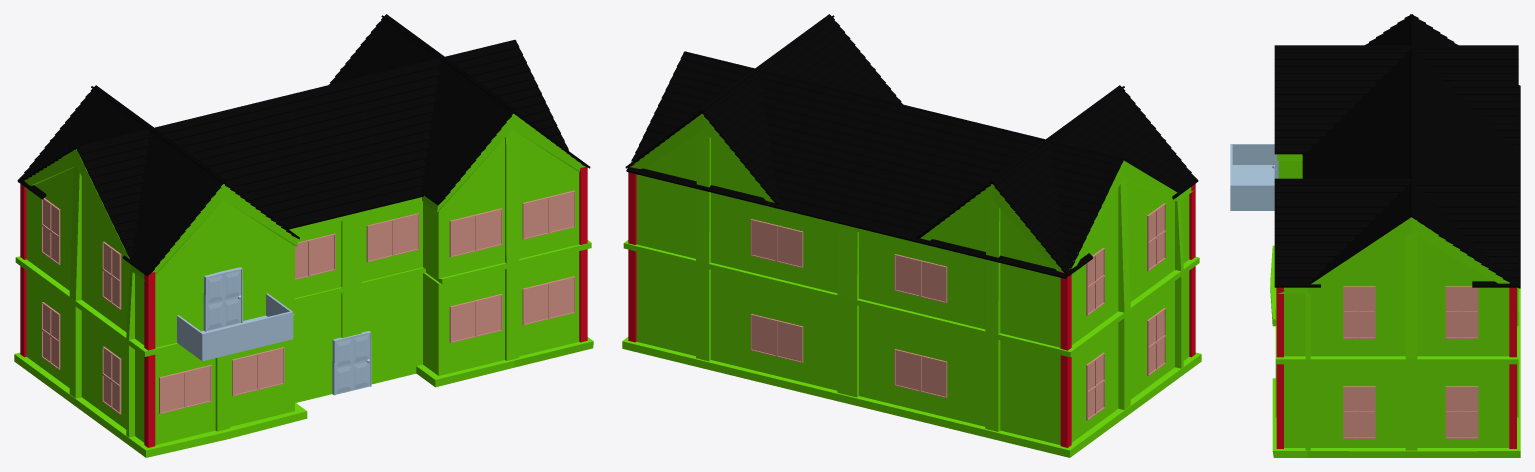
File: Building#4_Variation_1.fbx
3 renders of one model, left to right at view 1: azimuth 30°, elevation 25°; view 2: azimuth 150°, elevation 25°; view 3: azimuth 270°, elevation 25°, orthographic. The views are drawn at different scales.
Parts seen in each view (by area): view 1: Cube, Cube.007, Cube.004, Cube.006, Door.001, Cube.002, Door, Window_Rectangle.005, Window_Rectangle.002, Window_Rectangle.006, Window_Rectangle.001, Window_Rectangle.012 (+10 smaller); view 2: Cube, Cube.008, Cube.004, Cube.006, Cube.002, Window_Rectangle.007, Window_Rectangle.010, Window_Rectangle.008, Window_Rectangle.009, Cube.007, Window_Square.007, Window_Square.004 (+4 smaller); view 3: Cube, Cube.003, Cube.005, Cube.008, Cube.007, Door.001, Cube.002, Window_Square.002, Window_Square.001, Window_Square.005, Window_Square.006, Cube.006 (+1 smaller).
Part boxes in pixels (box(x1,y1,x2,y2)): Cube: box(14, 113, 593, 457); Cube.007: box(75, 39, 568, 259); Cube.004: box(17, 85, 226, 276); Cube.006: box(329, 14, 516, 205); Door.001: box(177, 267, 293, 361); Cube.002: box(20, 166, 587, 447); Door: box(332, 331, 371, 395); Window_Rectangle.005: box(449, 208, 502, 257); Window_Rectangle.002: box(522, 276, 575, 325); Window_Rectangle.006: box(522, 190, 575, 239); Window_Rectangle.001: box(449, 294, 502, 342); Window_Rectangle.012: box(366, 213, 419, 262); Cube: box(622, 113, 1201, 457); Cube.008: box(626, 51, 1124, 278); Cube.004: box(989, 85, 1198, 276); Cube.006: box(699, 14, 902, 205); Cube.002: box(628, 167, 1195, 447); Window_Rectangle.007: box(894, 254, 947, 303); Window_Rectangle.010: box(750, 314, 803, 362); Window_Rectangle.008: box(750, 219, 803, 267); Window_Rectangle.009: box(894, 349, 947, 397); Cube.007: box(683, 52, 1177, 192); Window_Square.007: box(1147, 203, 1165, 271); Window_Square.004: box(1086, 352, 1104, 420); Cube: box(1270, 154, 1520, 457); Cube.003: box(1274, 178, 1518, 287); Cube.005: box(1274, 45, 1518, 154); Cube.008: box(1409, 14, 1520, 288); Cube.007: box(1302, 14, 1413, 283); Door.001: box(1230, 144, 1278, 210); Cube.002: box(1276, 287, 1516, 448); Window_Square.002: box(1445, 386, 1478, 438); Window_Square.001: box(1445, 286, 1478, 338); Window_Square.005: box(1343, 286, 1375, 338); Window_Square.006: box(1343, 386, 1375, 438); Cube.006: box(1274, 180, 1518, 182).
Size of the model in its own units: 1235 by 678 by 736.
